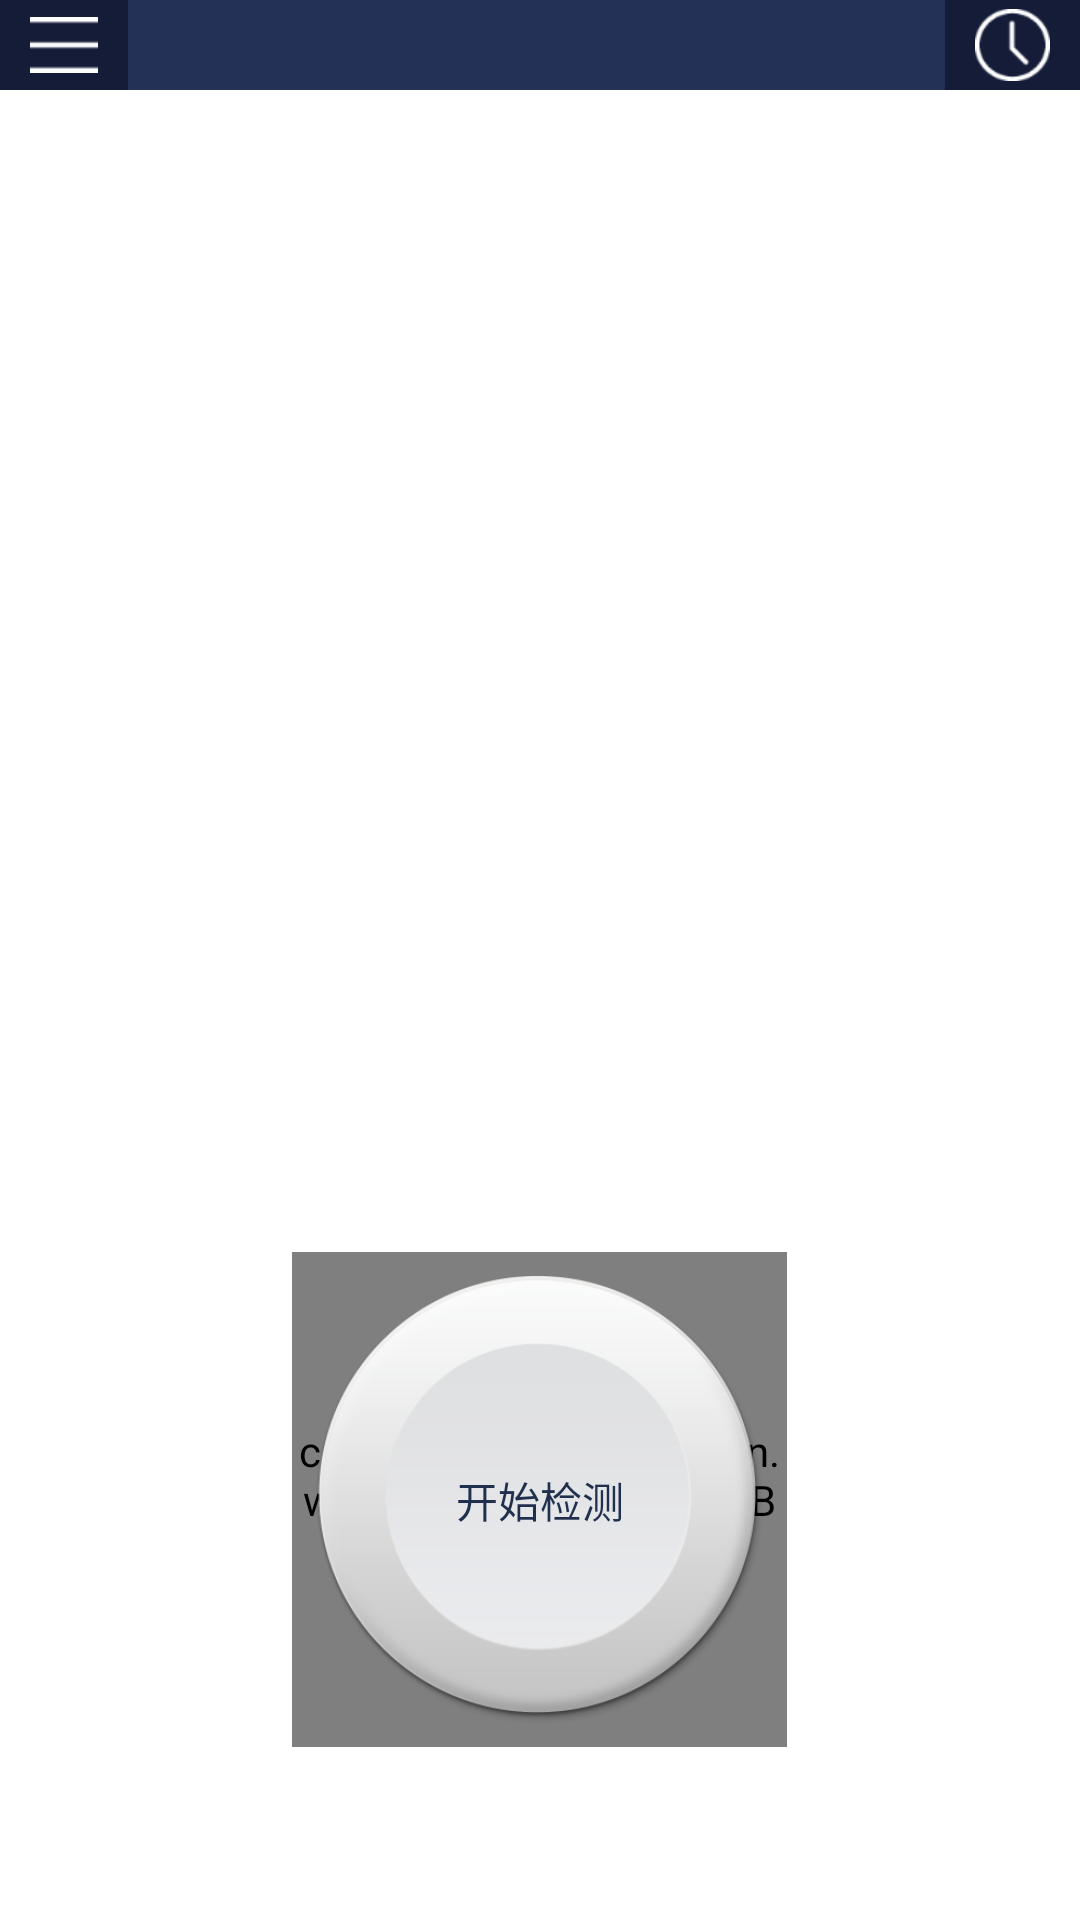

Icons on this 1080 x 1920 Android screen, each with the point to tap as point (x, y):
history: point (1012, 45)
menu: point (64, 45)
